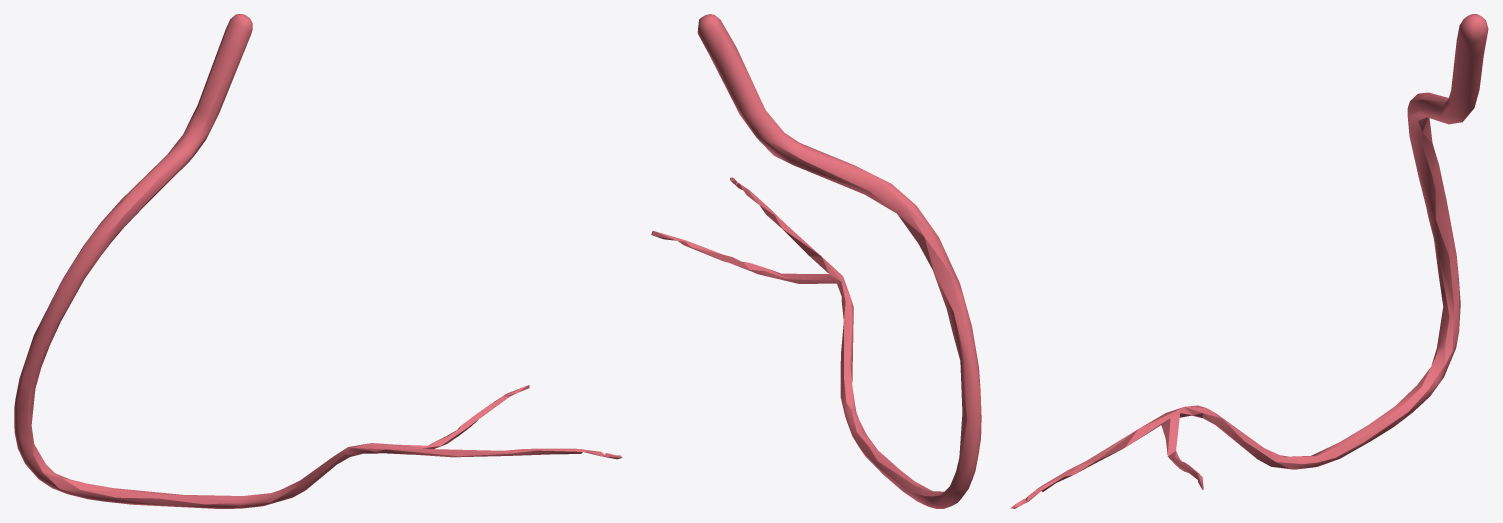
Rendered from fma49802_fj5116.glb.
The picture shows the model from 3 angles, left to right: view 1: azimuth 30°, elevation 25°; view 2: azimuth 150°, elevation 25°; view 3: azimuth 270°, elevation 25°; orthographic projection. The views are drawn at different scales.
Parts seen in each view (by area): view 1: FMA49802_FJ5116; view 2: FMA49802_FJ5116; view 3: FMA49802_FJ5116.
Boxes of the visible parts, x1=… form: FMA49802_FJ5116: x1=14, y1=14, x2=622, y2=508; FMA49802_FJ5116: x1=651, y1=14, x2=981, y2=508; FMA49802_FJ5116: x1=1010, y1=14, x2=1488, y2=508.
Size of the model in its own units: 0.0182 by 0.0179 by 0.0157.
